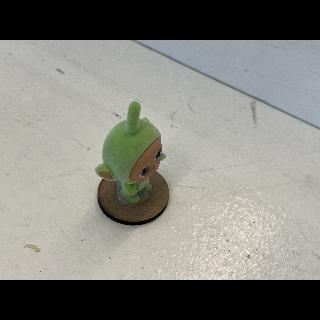teletubby: (95, 101, 165, 204)
